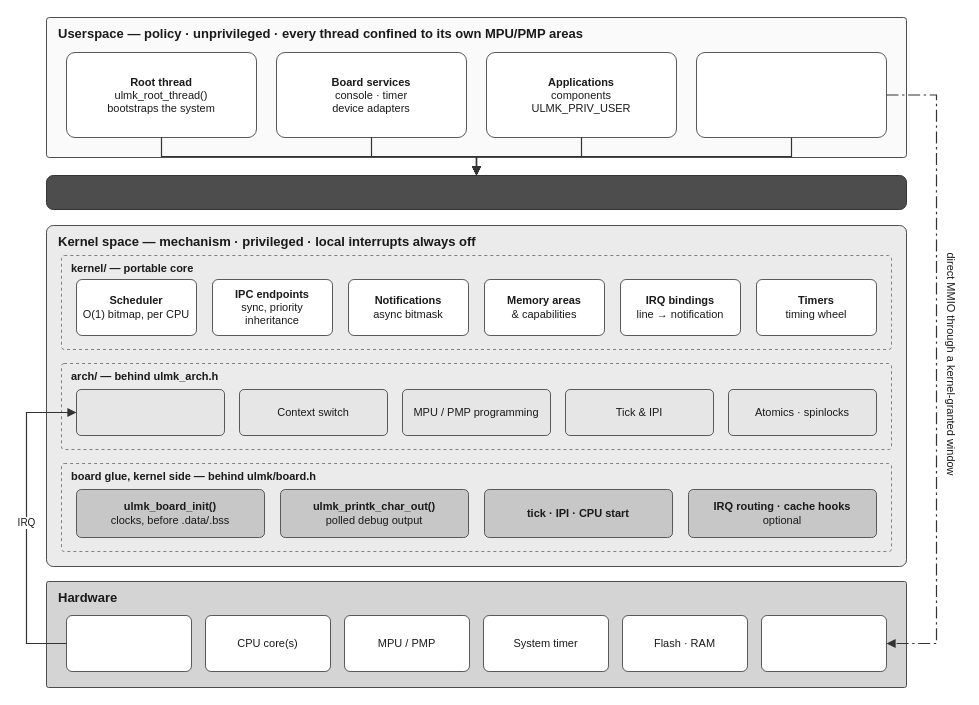
Image size: 979x705. Some labels were removed from this diagram. Each missing label, with the centre of its shape:
"Driver servers one thread per controller ULMK_PRIV_DRIVER" belongs at (x=791, y=95).
"Interrupt controller" belongs at (x=129, y=643).
"Peripherals (MMIO)" belongs at (x=823, y=643).
"Syscall gateway — trap · ecall · SVC — the only way into the kernel" belongs at (x=476, y=192).
"Trap & IRQ entry" belongs at (x=150, y=412).
